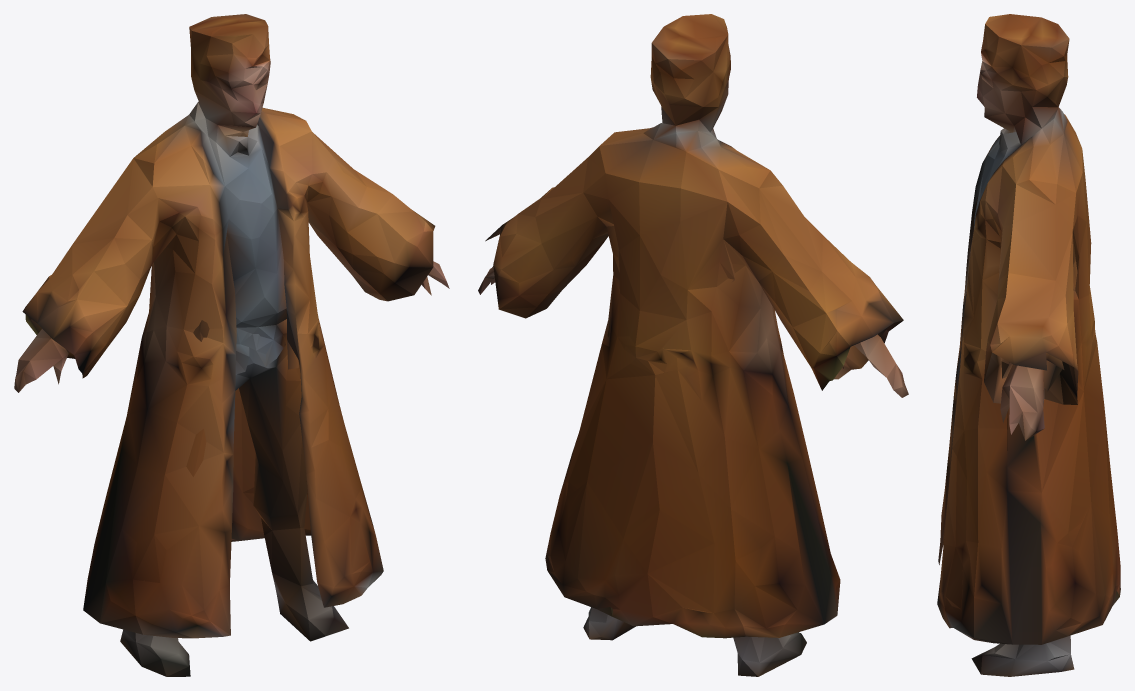
The model's file is lib_ong_lao.vc2.glb.
3 views of the same model, side by side, from view 1: azimuth 30°, elevation 25°; view 2: azimuth 150°, elevation 25°; view 3: azimuth 270°, elevation 25° (orthographic).
Parts seen in each view (by area): view 1: lib_ong_lao; view 2: lib_ong_lao; view 3: lib_ong_lao.
Boxes of the visible parts, x1,y1,x2,y2 form: lib_ong_lao: [14, 14, 449, 676]; lib_ong_lao: [478, 14, 908, 676]; lib_ong_lao: [937, 14, 1120, 676].
Bounding box in the file's own units: 0.0119 × 0.0164 × 0.00447.
